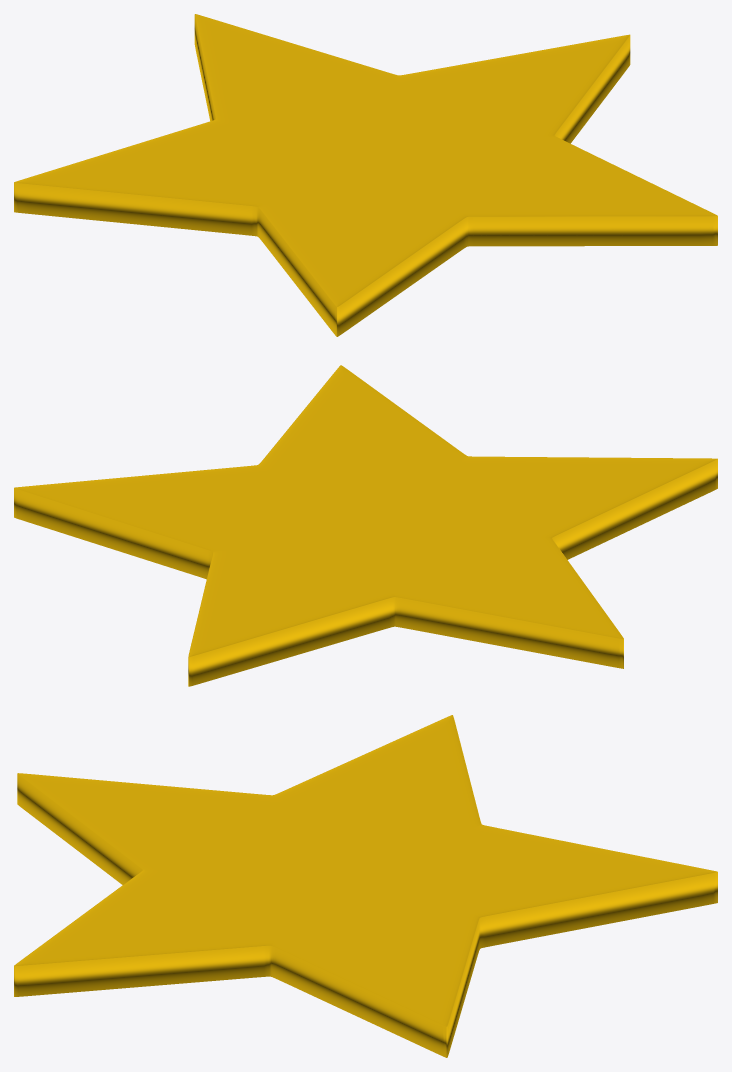
File: star.glb
3 renders of one model, top to bottom at view 1: azimuth 30°, elevation 25°; view 2: azimuth 150°, elevation 25°; view 3: azimuth 270°, elevation 25°, orthographic. The views are drawn at different scales.
Visible parts, largest first — view 1: 19340_Star_v1.002; view 2: 19340_Star_v1.002; view 3: 19340_Star_v1.002.
Part boxes in pixels (<box>): 19340_Star_v1.002: <box>14,14,717,336</box>; 19340_Star_v1.002: <box>14,365,717,686</box>; 19340_Star_v1.002: <box>14,715,717,1057</box>.
Bounding box in the file's own units: 5.83 × 0.2726 × 5.56.
